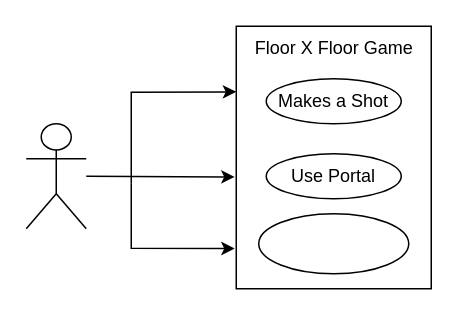
Some shapes in this 458 by 315 pixel diagram are drawn without their labels. The shapes that lost their labels are listed below. From the top down, each one's centre as x and y in pixels, then its label:
[55,175]: Player
[333,243]: View Enemy Counter
